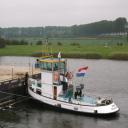tugboat: (25, 39, 122, 119)
